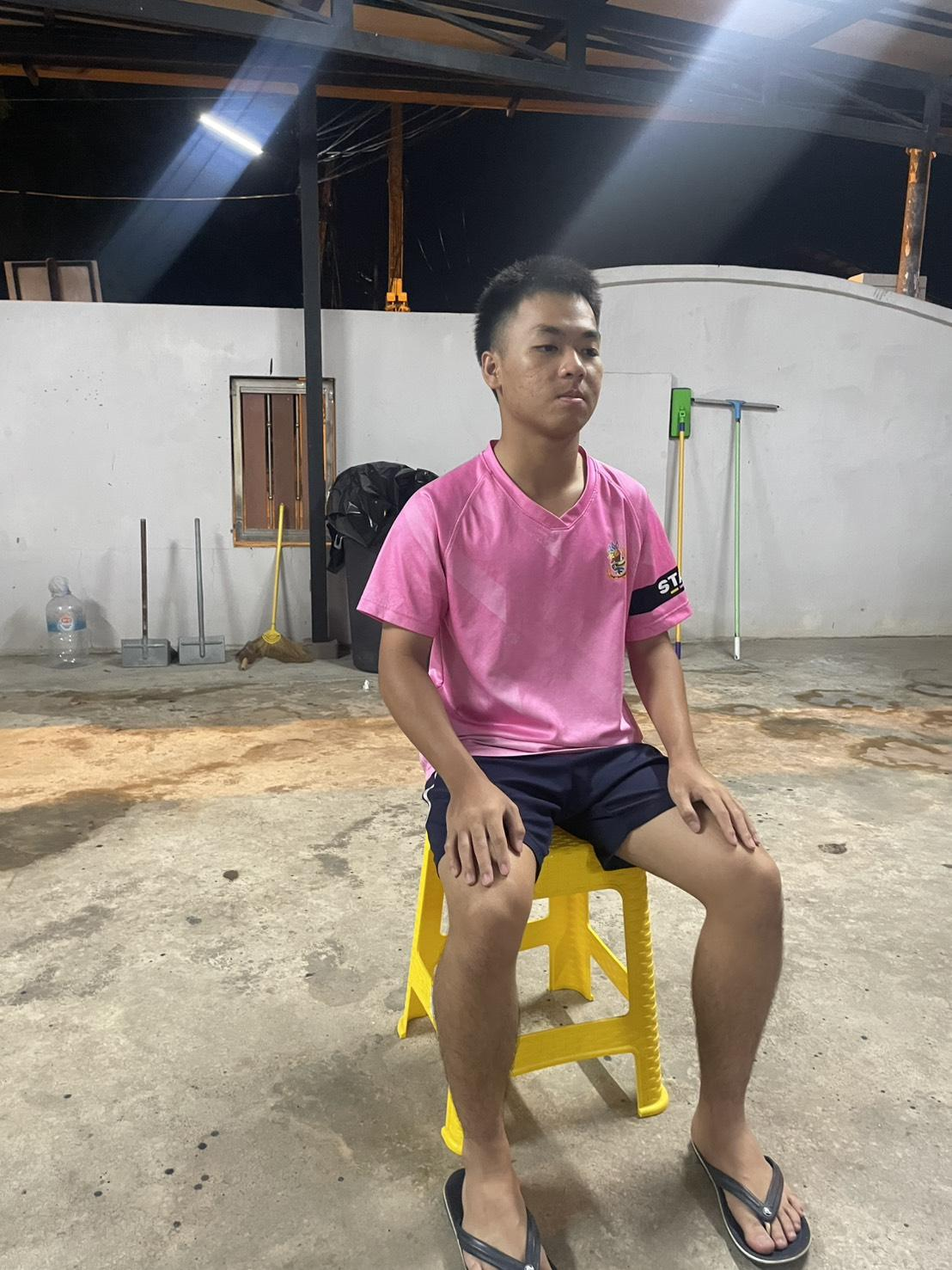GoodPosture: (362, 257, 809, 1269), (361, 256, 690, 756)
